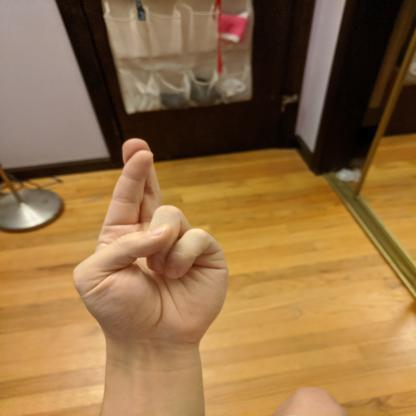R: (68, 135, 234, 355)
